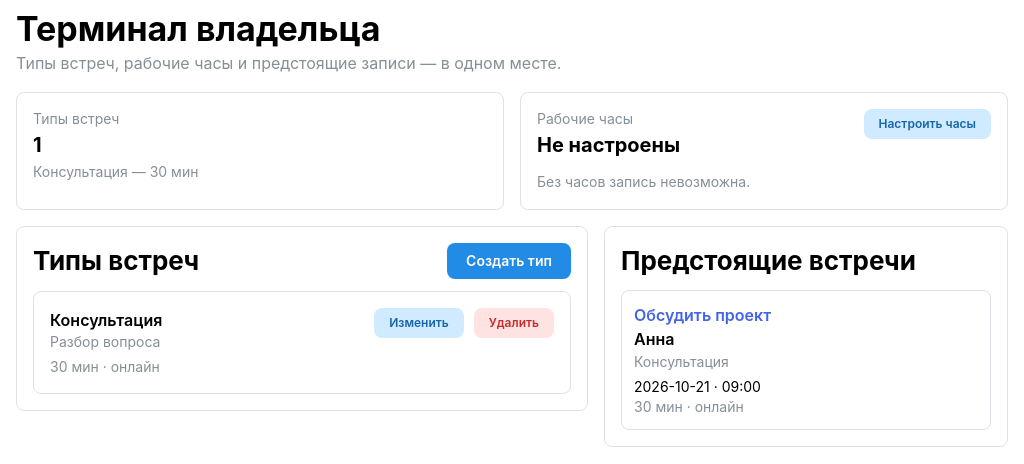
Test: Предстоящие встречи в терминале владельца › сохраняет тему встречи после удаления её типа события
Step 1. Click the button "Удалить" → (514, 323), box [474,308,554,338]
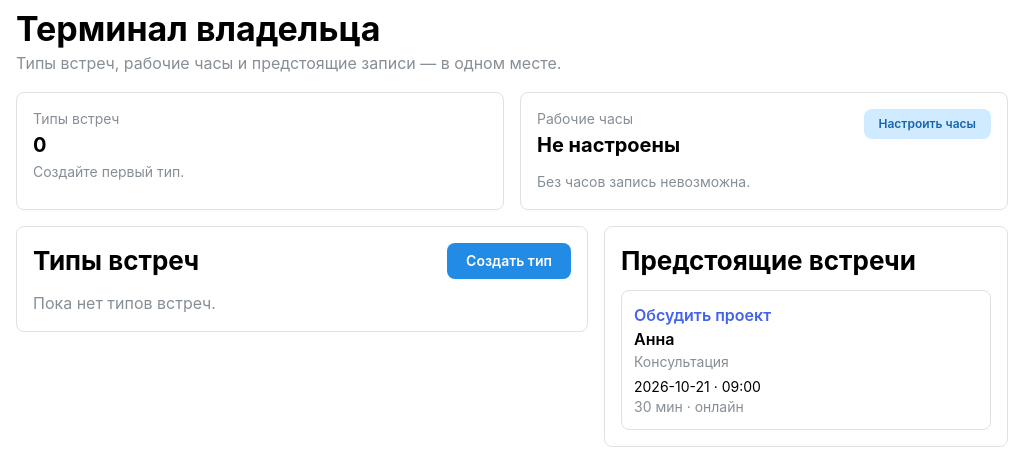
Expected: the text "Обсудить проект" is shown, [634,305,771,325]
Result: the text "Пока нет типов встреч." is shown at [33,293,216,313]
